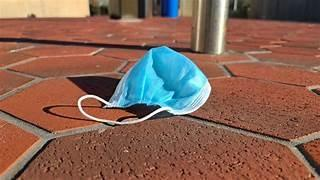Mask: (78, 46, 210, 123)
